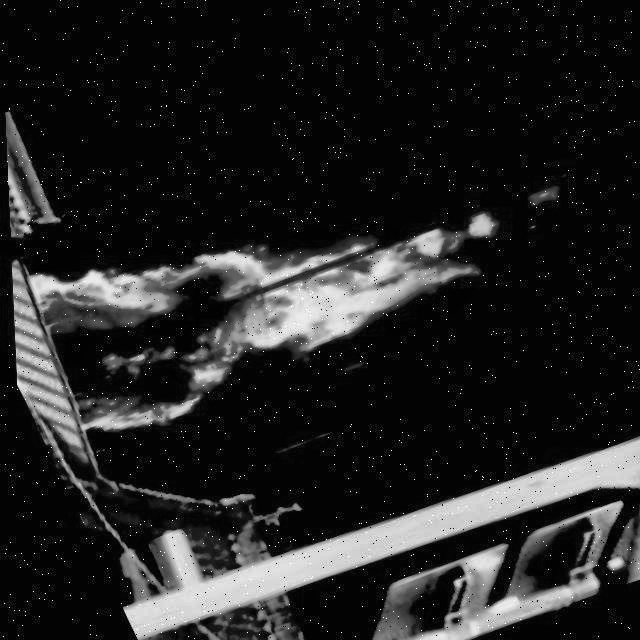Fire: (8, 102, 499, 470)
